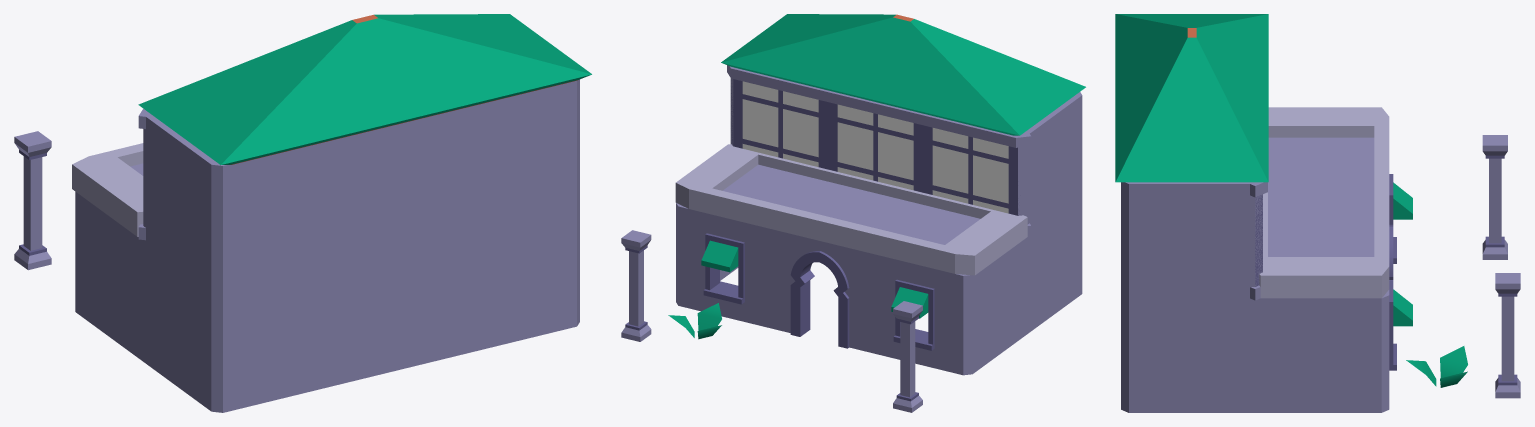
File: town_center.glb
The picture shows the model from 3 angles, left to right: view 1: azimuth 30°, elevation 25°; view 2: azimuth 150°, elevation 25°; view 3: azimuth 270°, elevation 25°; orthographic projection. The views are drawn at different scales.
Parts seen in each view (by area): view 1: mergedBlocks(Clone); view 2: mergedBlocks(Clone); view 3: mergedBlocks(Clone).
Boxes of the visible parts, bbox=[...] form: mergedBlocks(Clone): bbox=[14, 14, 591, 412]; mergedBlocks(Clone): bbox=[621, 14, 1085, 412]; mergedBlocks(Clone): bbox=[1115, 14, 1520, 412].
Size of the model in its own units: 3.21 by 2.61 by 3.21.
1 material, 1 textured.
